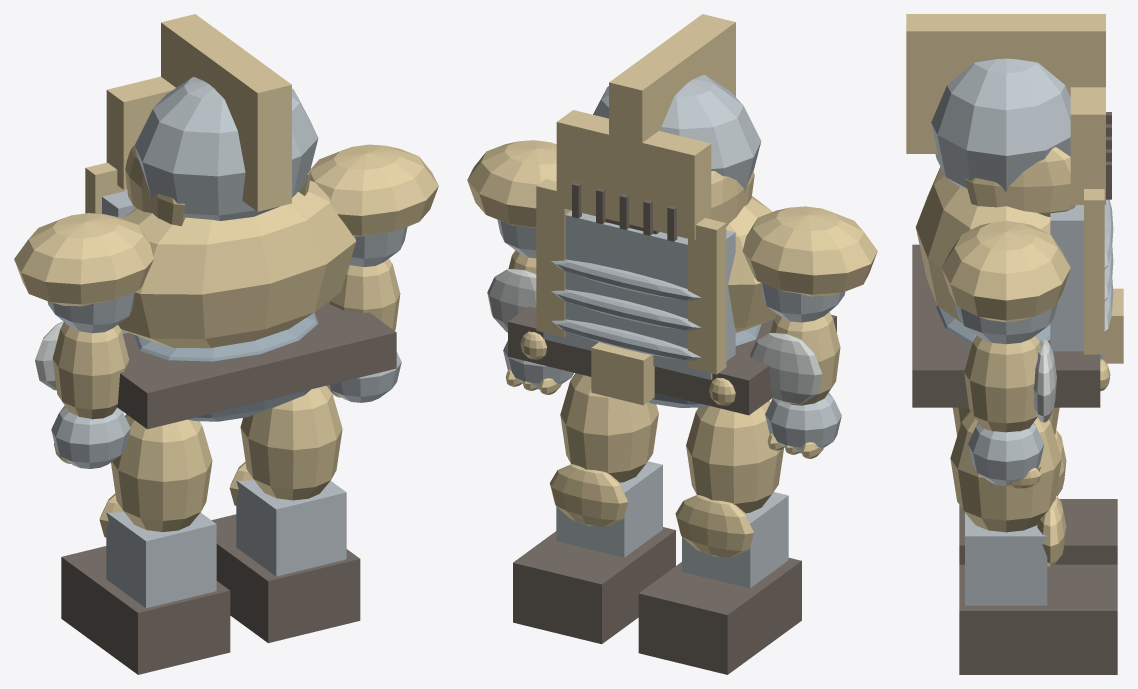
Rendered from guardian.gltf.
The picture shows the model from 3 angles, left to right: view 1: azimuth 30°, elevation 25°; view 2: azimuth 150°, elevation 25°; view 3: azimuth 270°, elevation 25°; orthographic projection. The views are drawn at different scales.
Parts seen in each view (by area): view 1: Part2, Part4, Part6, Part8, Part25, Part38, Part26, Part23, Part36, Part39, Part24, Part37 (+12 smaller); view 2: Part7, Part25, Part38, Part3, Part26, Part8, Part23, Part36, Part4, Part6, Part39, Part46 (+19 smaller); view 3: Part8, Part38, Part6, Part39, Part4, Part36, Part37, Part34, Part2, Part16, Part25, Part7 (+12 smaller).
Boxes of the visible parts, bbox=[...] form: Part2: bbox=[118, 180, 356, 348]; Part4: bbox=[116, 302, 396, 429]; Part6: bbox=[134, 77, 318, 220]; Part8: bbox=[161, 14, 291, 211]; Part25: bbox=[61, 546, 230, 674]; Part38: bbox=[211, 514, 360, 643]; Part26: bbox=[14, 213, 153, 306]; Part23: bbox=[111, 414, 212, 532]; Part36: bbox=[240, 385, 342, 500]; Part39: bbox=[310, 144, 438, 236]; Part24: bbox=[106, 512, 216, 608]; Part37: bbox=[236, 480, 346, 576]; Part7: bbox=[556, 110, 711, 240]; Part25: bbox=[638, 557, 801, 674]; Part38: bbox=[513, 527, 675, 644]; Part3: bbox=[543, 210, 735, 379]; Part26: bbox=[742, 206, 877, 296]; Part8: bbox=[609, 14, 735, 204]; Part23: bbox=[686, 401, 783, 513]; Part36: bbox=[560, 373, 658, 482]; Part4: bbox=[508, 306, 836, 415]; Part6: bbox=[593, 75, 761, 192]; Part39: bbox=[467, 140, 556, 227]; Part46: bbox=[688, 218, 726, 374]; Part8: bbox=[906, 14, 1105, 153]; Part38: bbox=[959, 564, 1117, 674]; Part6: bbox=[931, 58, 1070, 191]; Part39: bbox=[941, 221, 1070, 322]; Part4: bbox=[912, 244, 1100, 407]; Part36: bbox=[950, 411, 1061, 532]; Part37: bbox=[965, 513, 1047, 605]; Part34: bbox=[964, 335, 1040, 432]; Part2: bbox=[915, 167, 1052, 322]; Part16: bbox=[965, 147, 1075, 216]; Part25: bbox=[959, 499, 1117, 564]; Part7: bbox=[1070, 87, 1105, 204].
Size of the model in its own units: 0.834 by 1.12 by 0.37.
